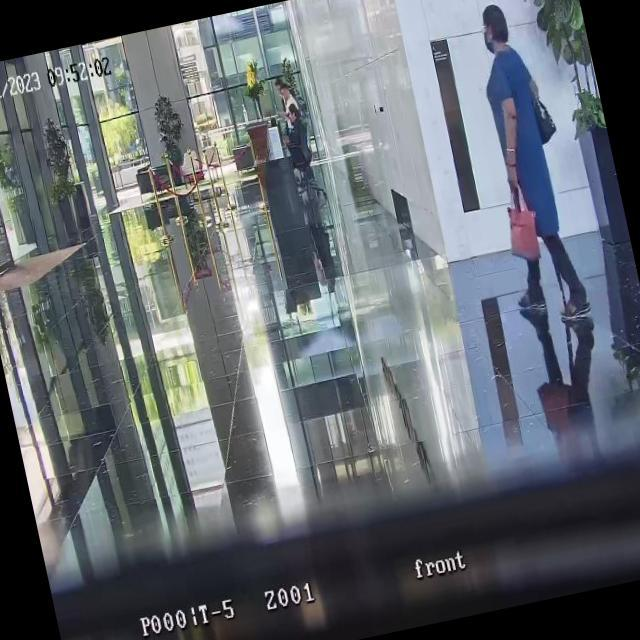person: (455, 0, 594, 333), (275, 100, 313, 170), (274, 78, 302, 124)
